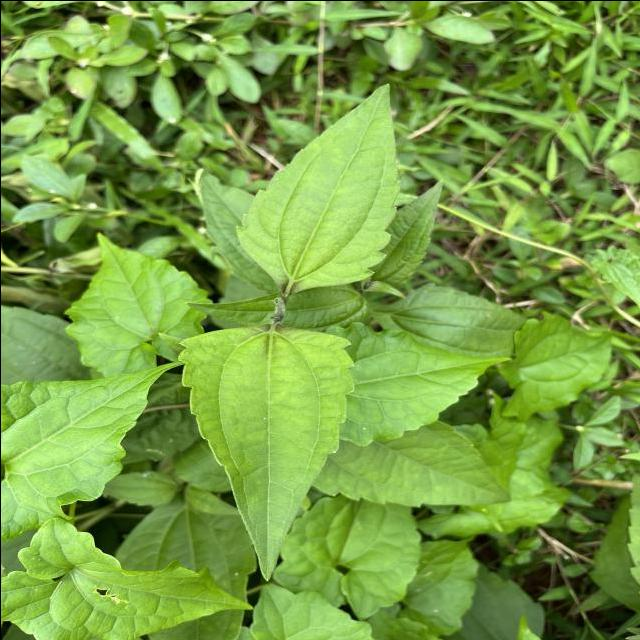Chromolaena odorata: (172, 318, 359, 584), (230, 80, 401, 300)
